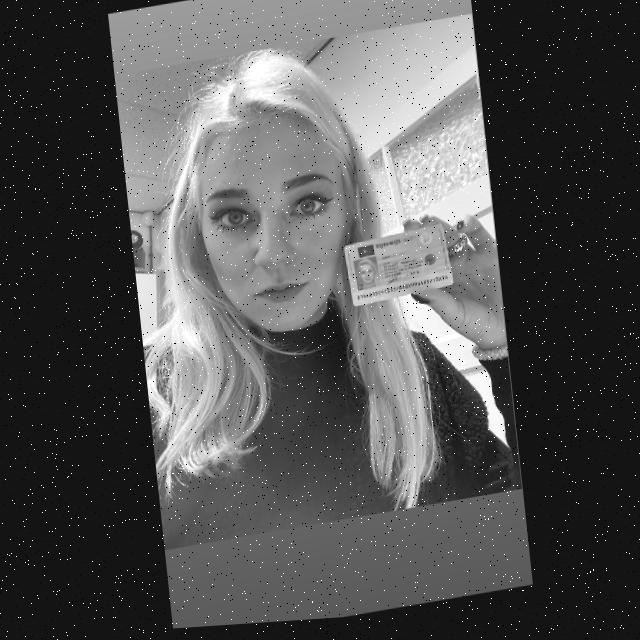card: (345, 225, 453, 306)
